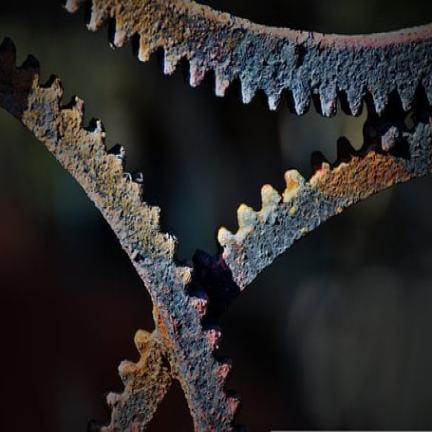karat: (4, 51, 202, 431)
